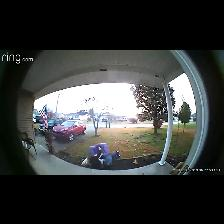person: (88, 148, 120, 169)
